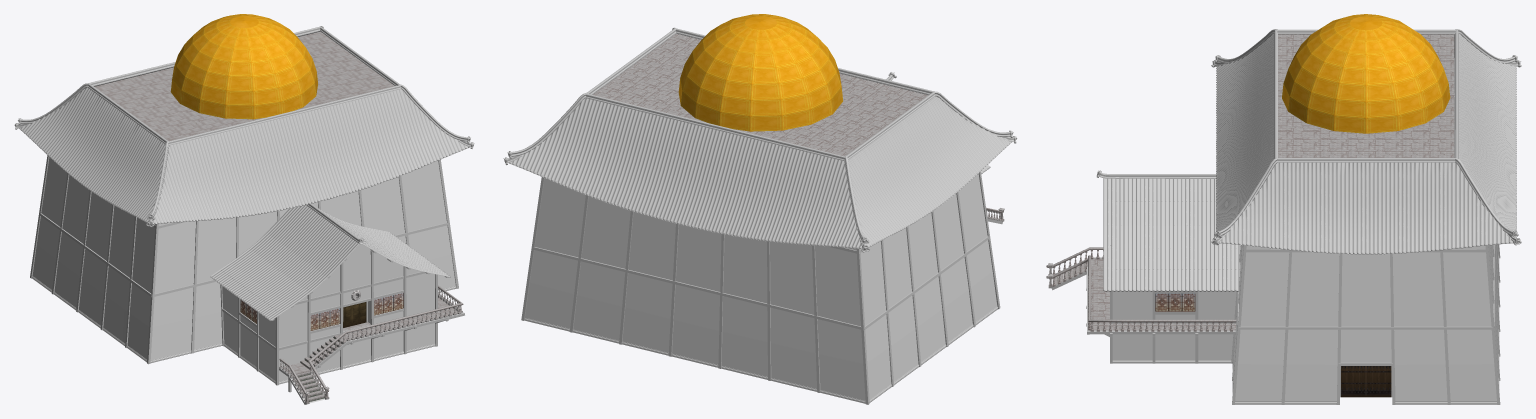
File: Edificio_Lateral.fbx
The picture shows the model from 3 angles, left to right: view 1: azimuth 30°, elevation 25°; view 2: azimuth 150°, elevation 25°; view 3: azimuth 270°, elevation 25°; orthographic projection. The views are drawn at different scales.
Visible parts, largest first — view 1: Edificio_Lateral_LOD0; view 2: Edificio_Lateral_LOD0; view 3: Edificio_Lateral_LOD0.
Boxes of the visible parts, x1,y1,x2,y2 form: Edificio_Lateral_LOD0: [14, 14, 474, 404]; Edificio_Lateral_LOD0: [503, 14, 1017, 404]; Edificio_Lateral_LOD0: [1046, 14, 1521, 404].
Size of what is drawn, in the model's own units: 3131 by 2411 by 3473.
